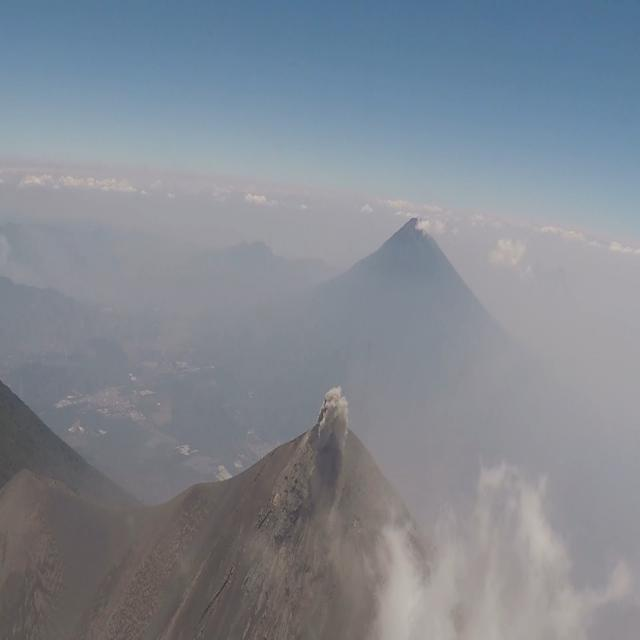Plume: (186, 411, 466, 640), (317, 382, 349, 449)
